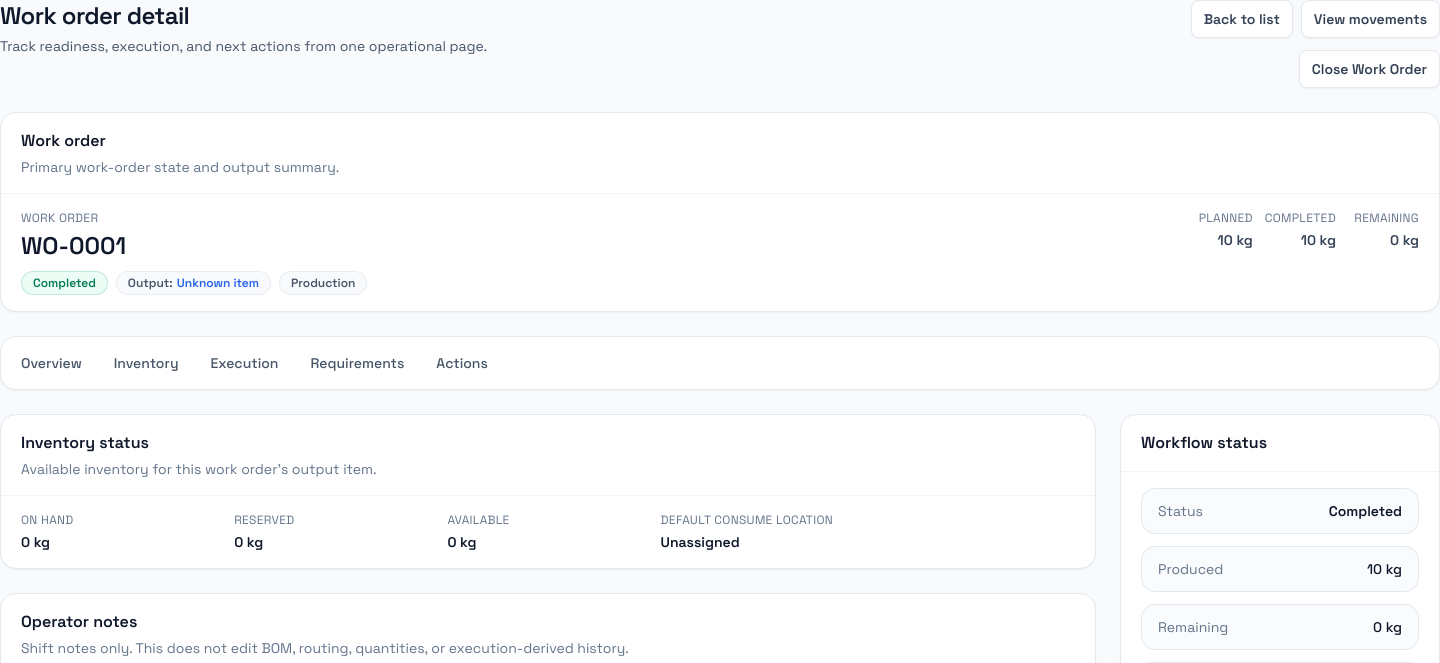
Test: WorkOrderDetailPage tabs › opens Close Work Order modal for authorized user and submits
The width and height of the screenshot is (1440, 663).
Click the button "Close Work Order" at (1369, 69), box [1299, 50, 1439, 88]
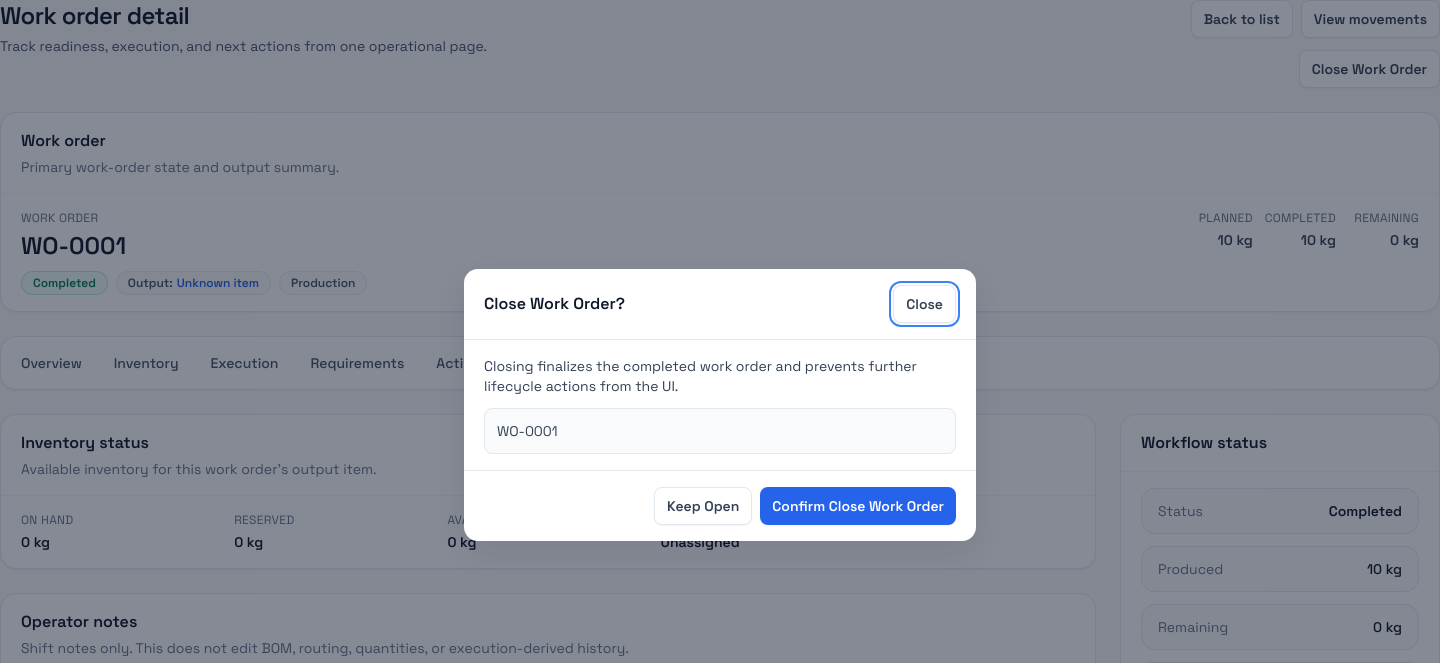
Now the text "Close Work Order?" is shown, box [484, 292, 625, 316]
Click the button "Confirm Close Work Order" at (858, 506), box [760, 487, 956, 525]
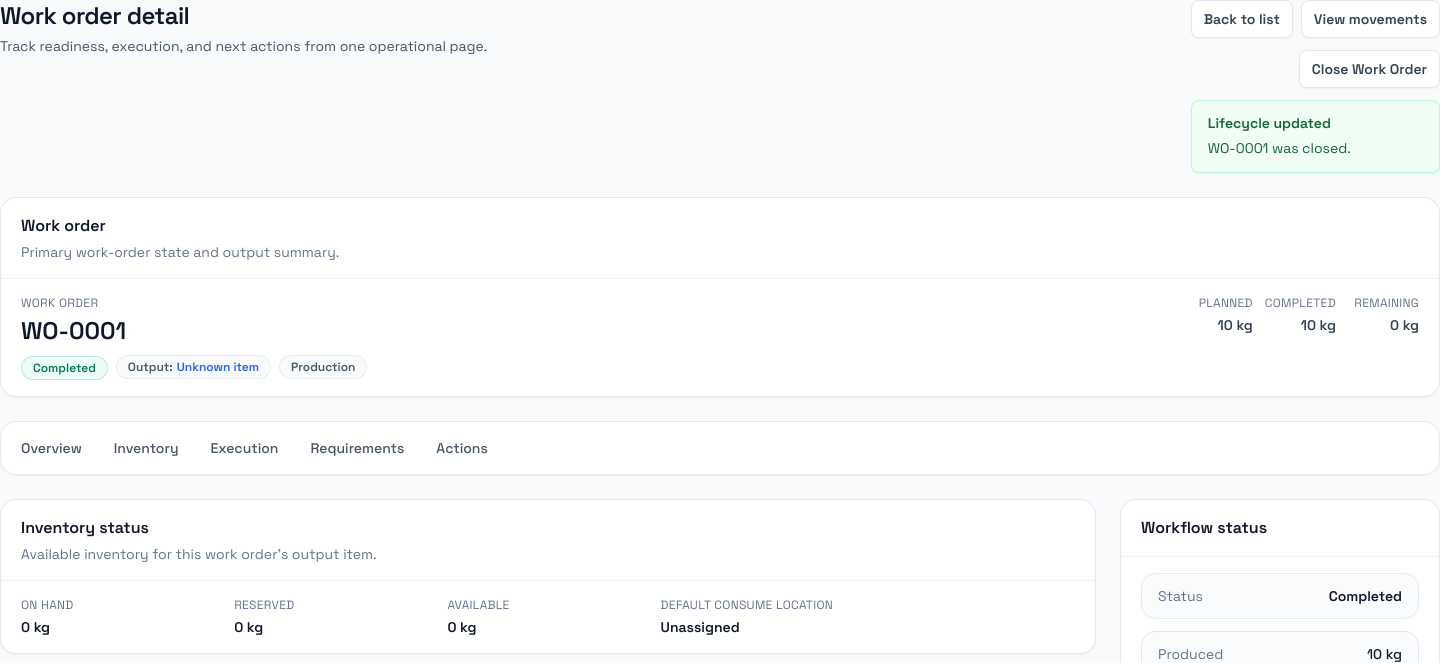
Now the text "Lifecycle updated" is shown, box [1208, 114, 1331, 132]
